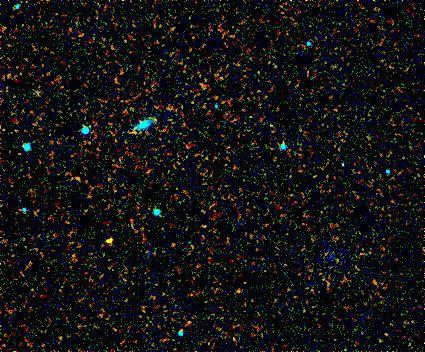star: (93, 227, 123, 257)
